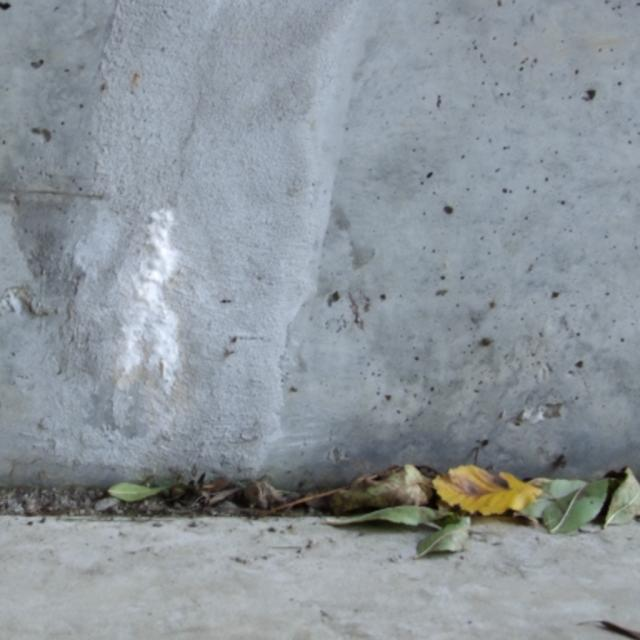D01: (114, 214, 180, 401)
